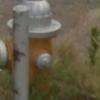a fire hydrant: (0, 1, 62, 100)
